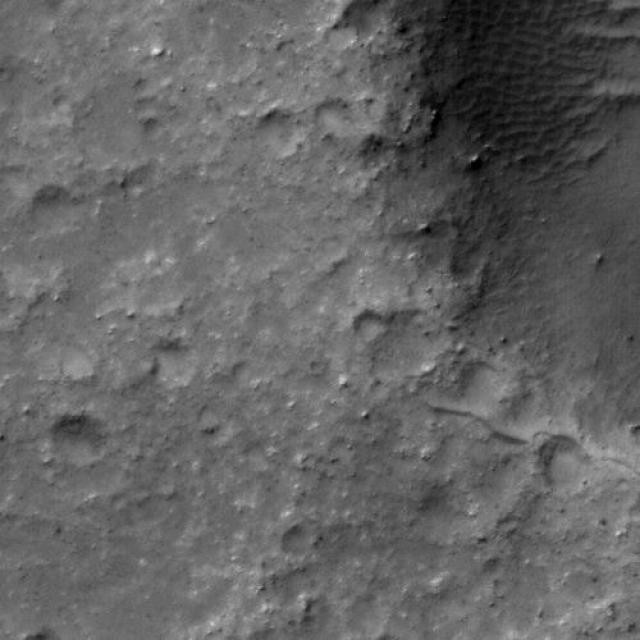crater: (308, 0, 640, 640), (0, 351, 87, 562), (0, 0, 120, 111), (511, 419, 614, 517), (0, 368, 72, 496), (30, 398, 126, 493), (0, 0, 76, 109), (235, 89, 318, 173), (1, 0, 124, 56), (445, 344, 525, 418), (138, 324, 208, 407), (18, 172, 96, 240), (38, 330, 113, 390), (269, 507, 334, 569), (299, 80, 359, 145), (332, 0, 407, 51), (0, 567, 40, 640), (311, 15, 362, 70), (316, 424, 368, 477), (340, 307, 394, 358), (11, 610, 102, 640), (0, 407, 37, 479), (306, 226, 361, 273), (0, 240, 36, 308), (181, 397, 225, 440), (219, 361, 265, 397), (621, 462, 640, 549), (233, 440, 276, 476), (26, 0, 84, 26), (0, 0, 45, 33), (0, 12, 28, 60), (0, 36, 28, 80), (0, 371, 20, 425), (0, 0, 31, 32), (0, 168, 22, 204), (0, 0, 29, 25), (0, 614, 27, 640)
